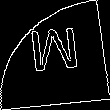M_S: (27, 27, 83, 83)
